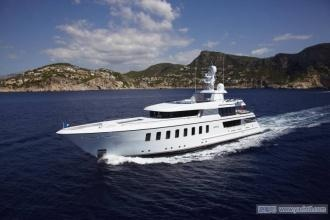yacht: (52, 60, 261, 169)
